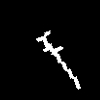double_crochet: (36, 31, 80, 88)
